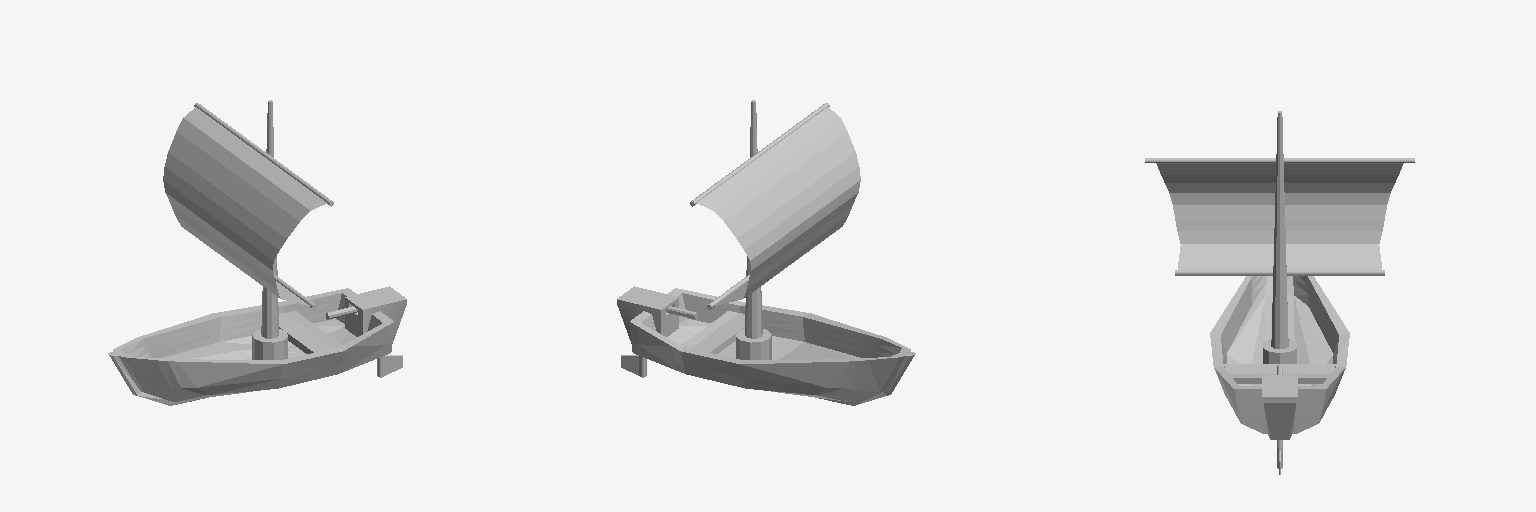
Rendered from Sailboat.obj.
The picture shows the model from 3 angles: view 1: azimuth 30°, elevation 25°; view 2: azimuth 150°, elevation 25°; view 3: azimuth 270°, elevation 25°; orthographic projection.
Parts seen in each view (by area): view 1: initialShadingGroup pCube1, initialShadingGroup pPlane1, initialShadingGroup pCube2, initialShadingGroup pCylinder1, initialShadingGroup pCylinder2; view 2: initialShadingGroup pCube1, initialShadingGroup pPlane1, initialShadingGroup pCube2, initialShadingGroup pCylinder1, initialShadingGroup pCylinder2; view 3: initialShadingGroup pPlane1, initialShadingGroup pCube1, initialShadingGroup pCylinder1, initialShadingGroup pCube2, initialShadingGroup pCylinder2, initialShadingGroup pasted__pCylinder2 group.
Boxes of the visible parts, <box> form: initialShadingGroup pCube1: <box>108,288,393,405</box>; initialShadingGroup pPlane1: <box>163,107,326,305</box>; initialShadingGroup pCube2: <box>326,286,406,377</box>; initialShadingGroup pCylinder1: <box>252,100,287,359</box>; initialShadingGroup pCylinder2: <box>194,103,333,206</box>; initialShadingGroup pCube1: <box>630,288,915,405</box>; initialShadingGroup pPlane1: <box>697,107,860,305</box>; initialShadingGroup pCube2: <box>617,286,697,377</box>; initialShadingGroup pCylinder1: <box>736,100,771,359</box>; initialShadingGroup pCylinder2: <box>690,103,829,206</box>; initialShadingGroup pPlane1: <box>1156,163,1403,269</box>; initialShadingGroup pCube1: <box>1210,276,1349,433</box>; initialShadingGroup pCylinder1: <box>1263,111,1296,363</box>; initialShadingGroup pCube2: <box>1262,365,1297,474</box>; initialShadingGroup pCylinder2: <box>1145,158,1414,162</box>; initialShadingGroup pasted__pCylinder2 group: <box>1175,270,1384,275</box>.
Size of the model in its own units: 9.67 by 9.48 by 7.68.